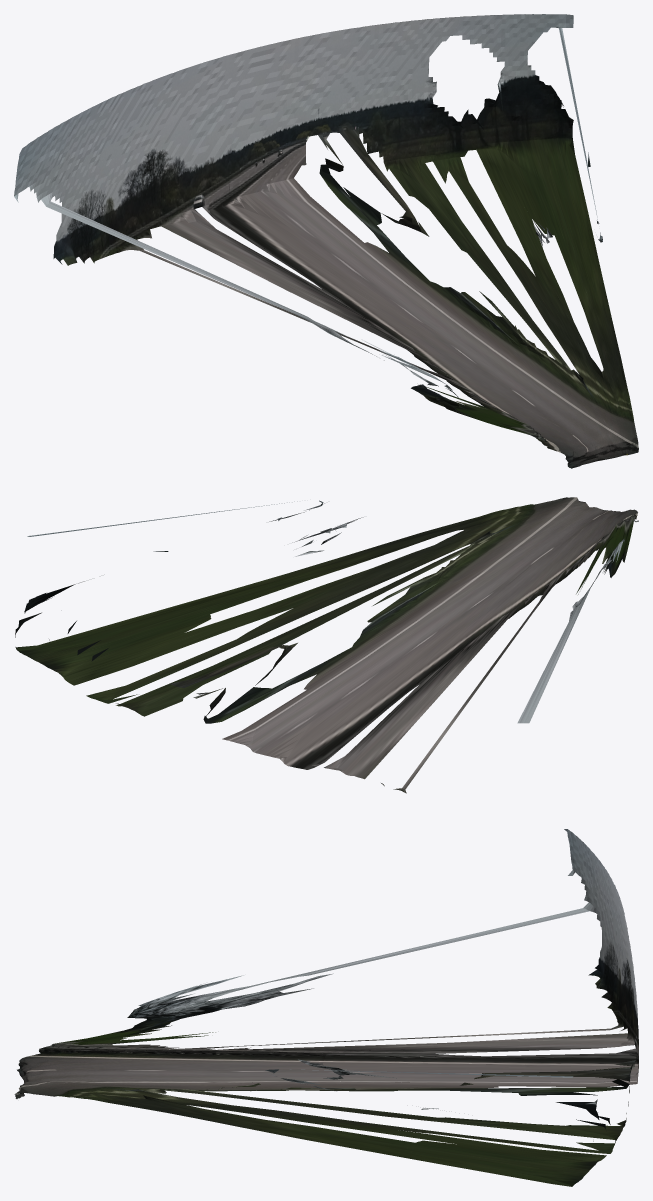
The picture shows the model from 3 angles, top to bottom: view 1: azimuth 30°, elevation 25°; view 2: azimuth 150°, elevation 25°; view 3: azimuth 270°, elevation 25°; orthographic projection. The views are drawn at different scales.
Visible parts, largest first — view 1: defaultobject; view 2: defaultobject; view 3: defaultobject.
Boxes of the visible parts, box(x1,y1,x2,y2) form: defaultobject: box(14, 14, 638, 468); defaultobject: box(15, 497, 638, 793); defaultobject: box(14, 829, 638, 1186).
Bounding box in the file's own units: 41 × 11.84 × 44.43.
Materials: 1 (1 with a texture image).
